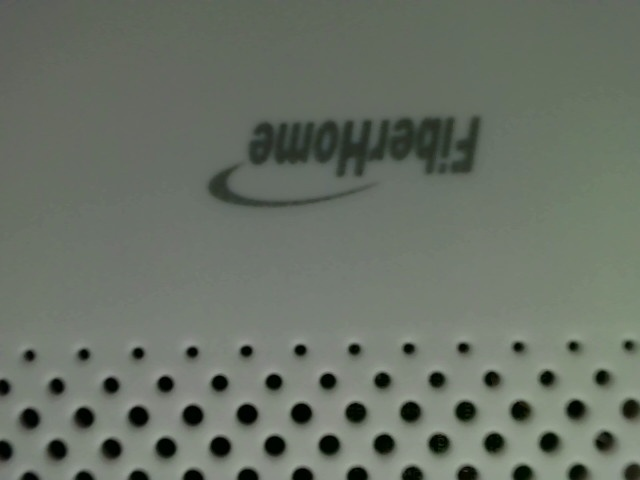AI_FiberHome: (196, 108, 484, 219)
